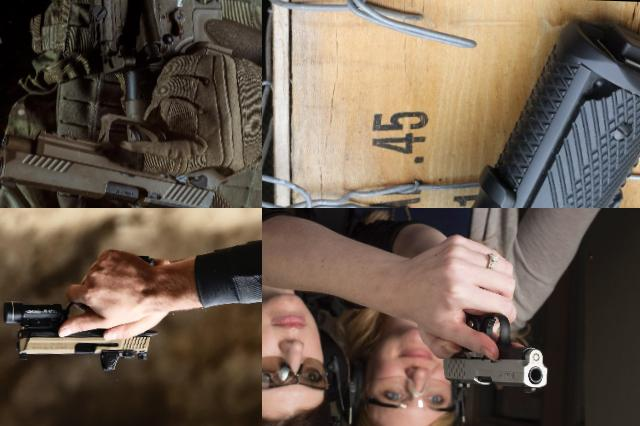handgun: (354, 5, 640, 208), (0, 29, 236, 208), (0, 245, 166, 374), (438, 279, 552, 397)
